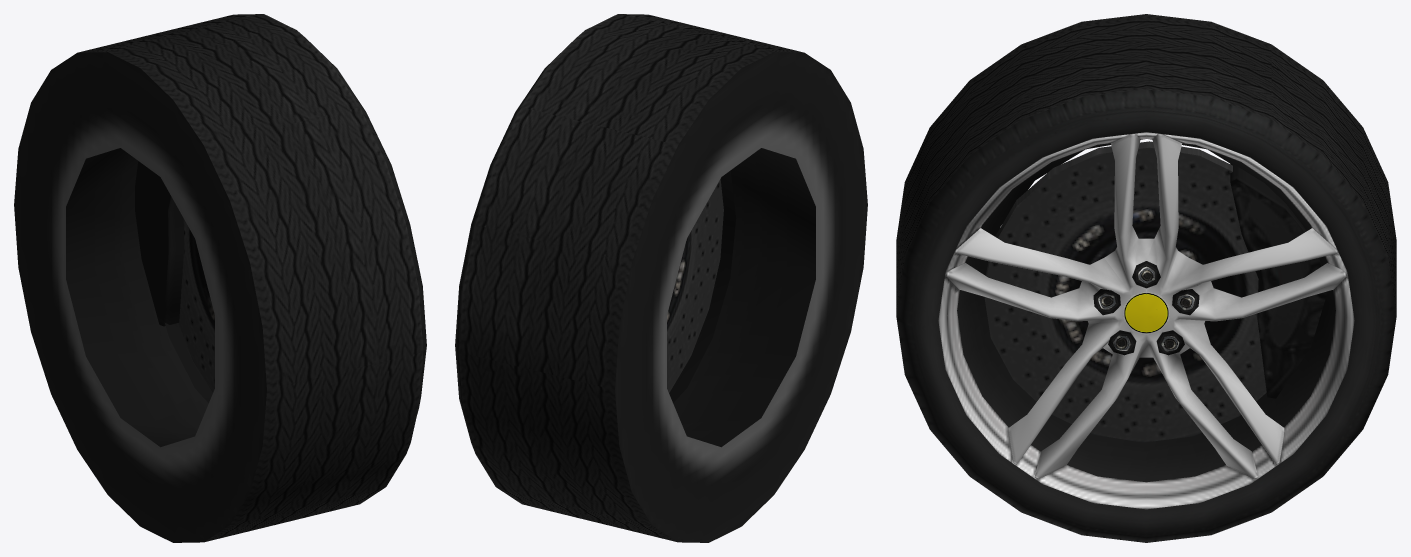
Rendered from WP09_wheelpack.glb.
3 renders of one model, left to right at view 1: azimuth 30°, elevation 25°; view 2: azimuth 150°, elevation 25°; view 3: azimuth 270°, elevation 25°, orthographic.
Parts seen in each view (by area): view 1: MOD_ND_WP09_tyre, MOD_ND_WP09_rim, MOD_ND_WP09_brakes; view 2: MOD_ND_WP09_tyre, MOD_ND_WP09_rim, MOD_ND_WP09_brakes; view 3: MOD_ND_WP09_tyre, MOD_ND_WP09_rim, MOD_ND_WP09_brakes.
Part boxes in pixels (box(x1,y1,x2,y2)): MOD_ND_WP09_tyre: box(14, 14, 426, 542); MOD_ND_WP09_rim: box(66, 148, 212, 447); MOD_ND_WP09_brakes: box(135, 161, 214, 392); MOD_ND_WP09_tyre: box(455, 14, 867, 542); MOD_ND_WP09_rim: box(669, 148, 815, 447); MOD_ND_WP09_brakes: box(667, 179, 723, 393); MOD_ND_WP09_tyre: box(896, 14, 1396, 542); MOD_ND_WP09_rim: box(938, 132, 1354, 509); MOD_ND_WP09_brakes: box(984, 141, 1326, 442).
Size of the model in its own units: 0.2451 by 0.6414 by 0.6414.
Materials: 2 (2 with a texture image).
